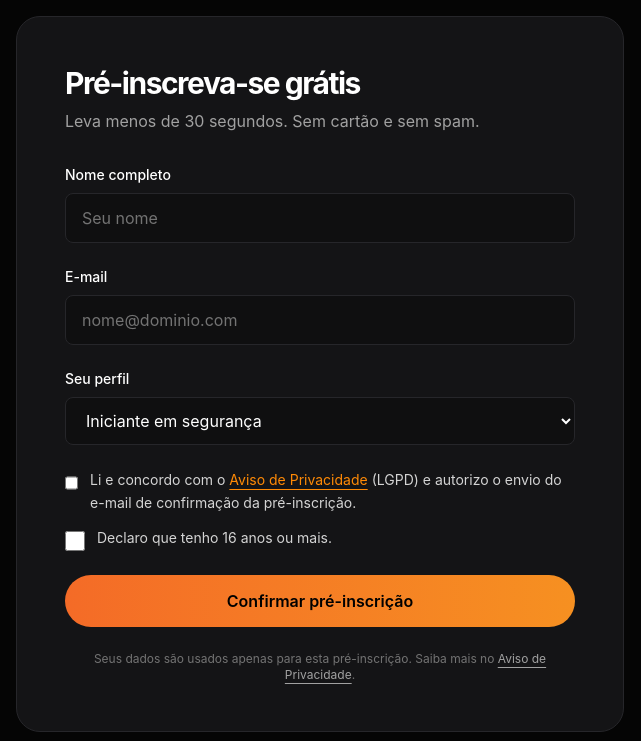
Test: PreEnrollmentForm › modo habilitado › erro de servidor → mensagem de recuperação e retry com MESMO request_id (idempotência)
The width and height of the screenshot is (641, 741).
Step 1. Type "Maria Silva" into the field labelled "Nome completo" → (320, 218), box [65,193,575,243]
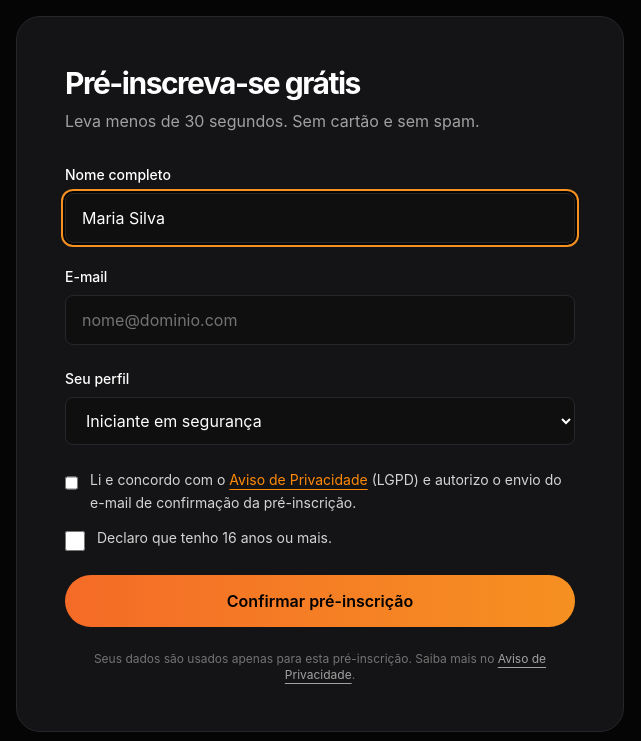
Step 2. Type "maria@exemplo.com" into the field labelled "E-mail" → (320, 320), box [65,295,575,345]
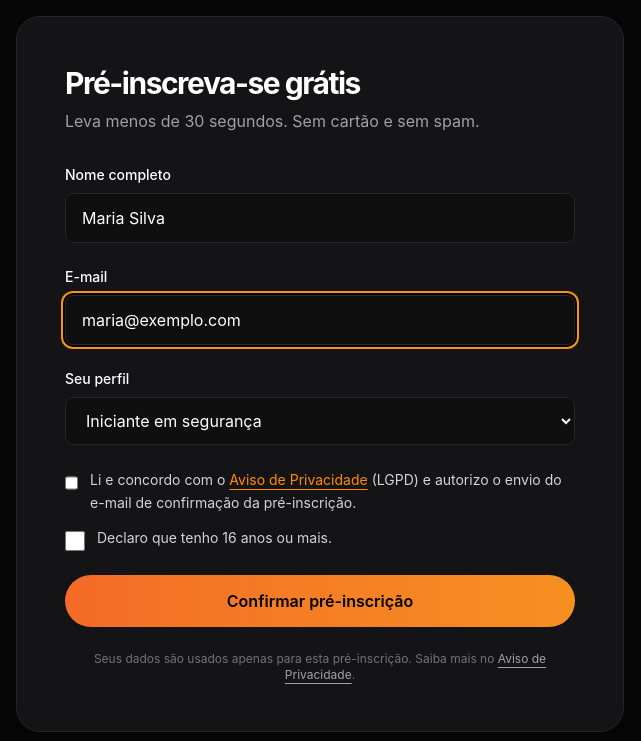
Step 3. Click the checkbox labelled "Li e concordo" → (72, 483), box [65,473,78,493]
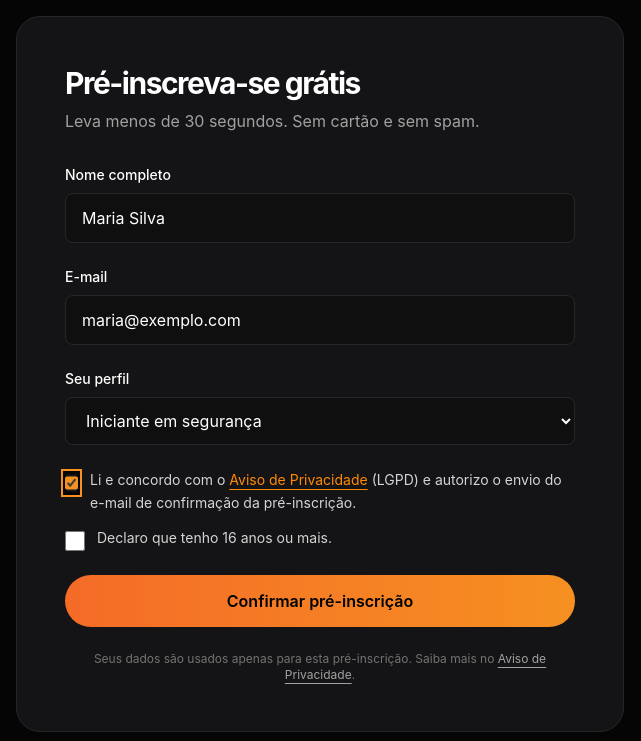
Step 4. Click the checkbox labelled "Declaro que tenho 16 anos ou mais." → (75, 540), box [65,530,85,550]
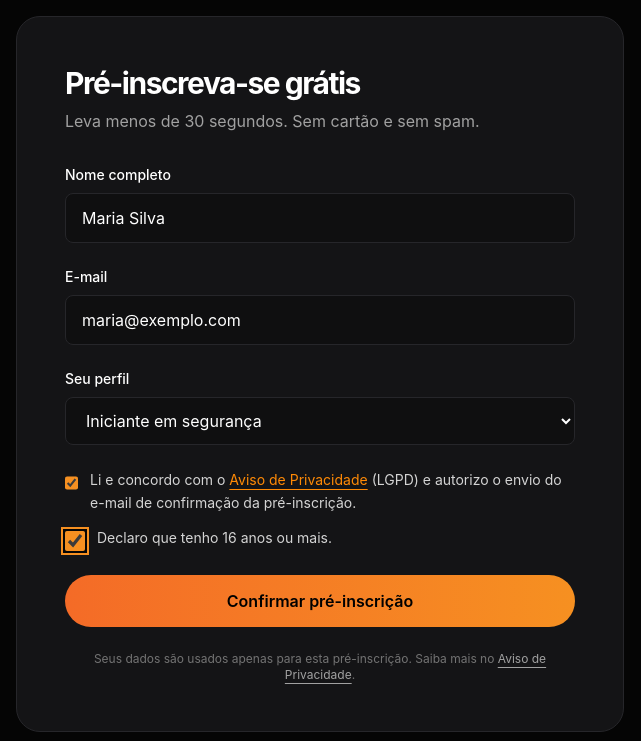
Step 5. Click the button "Confirmar pré-inscrição" → (320, 600), box [65,574,575,626]
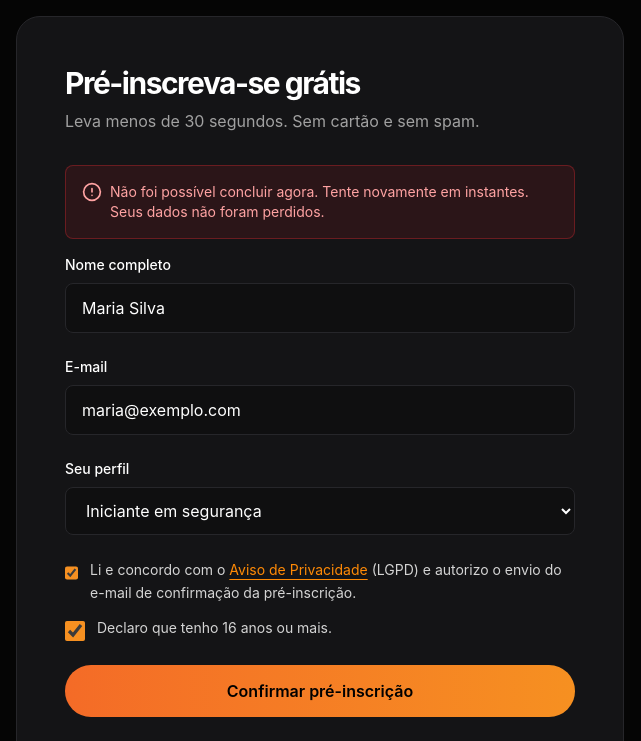
Check: the text "Não foi possível concluir agora" is shown, box [110,183,529,220]
Step 6. Click the button "Confirmar pré-inscrição" → (320, 690), box [65,664,575,716]
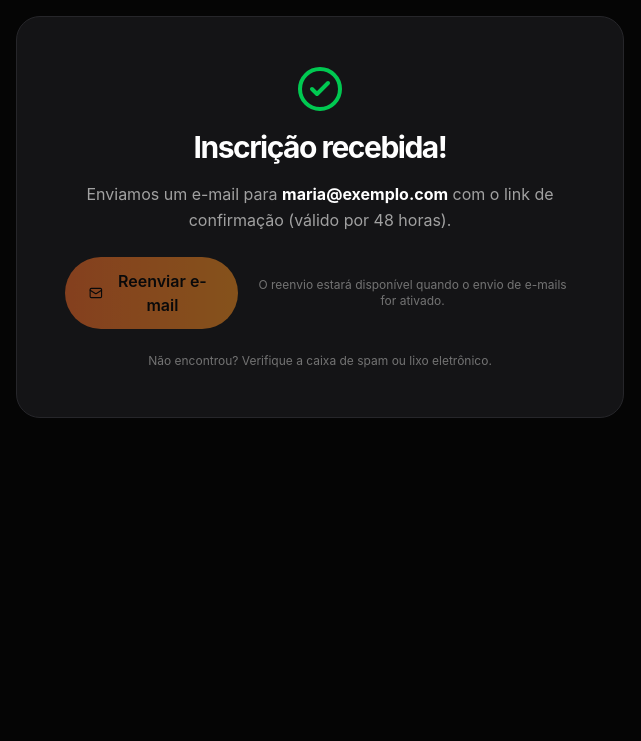
Check: the heading "Inscrição recebida!" is shown, box [194,129,446,165]
